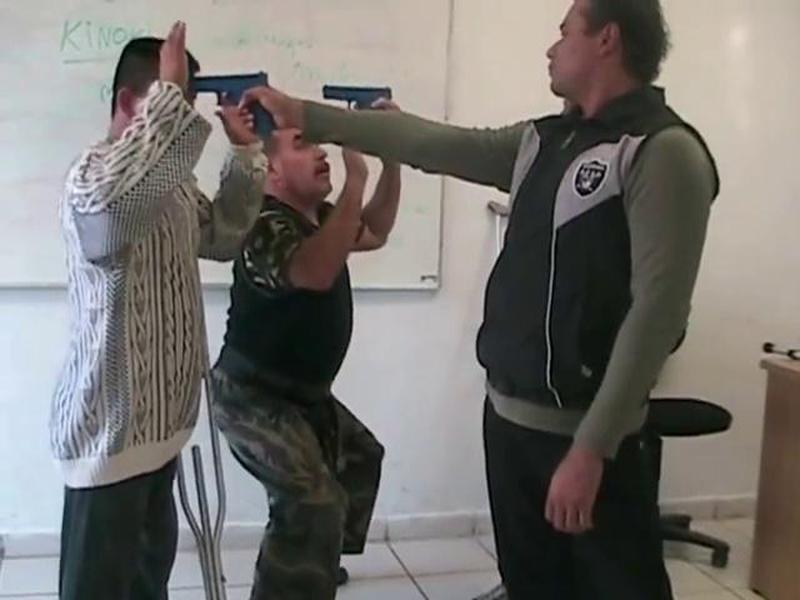Pistola: (181, 57, 281, 152), (310, 79, 404, 130)
